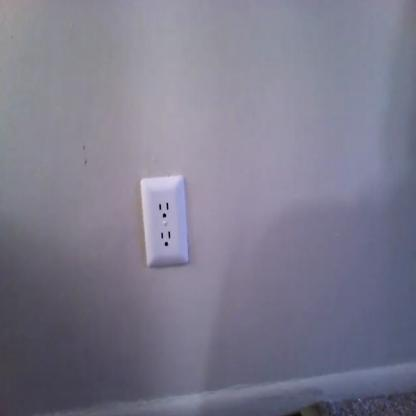OUTLET: (140, 176, 190, 268)
